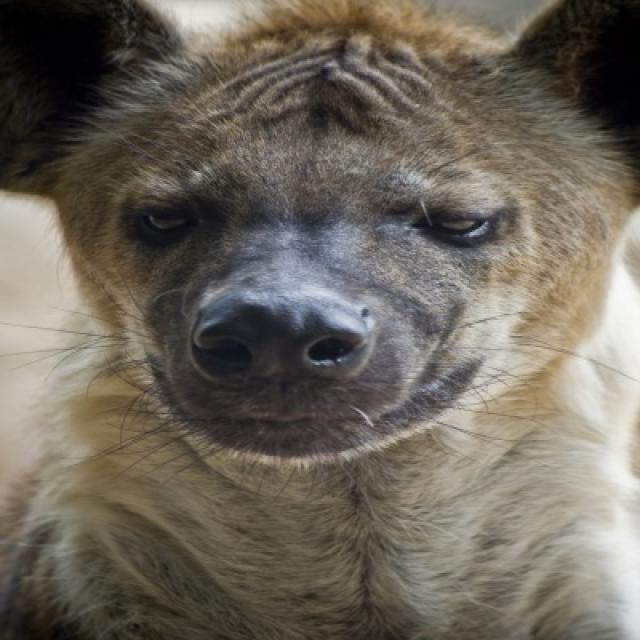hyena: (0, 0, 638, 638)
